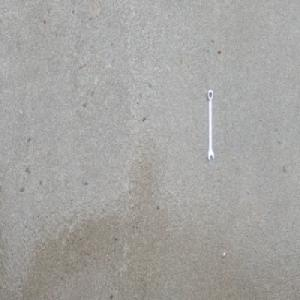Wrench: (206, 88, 214, 162)
